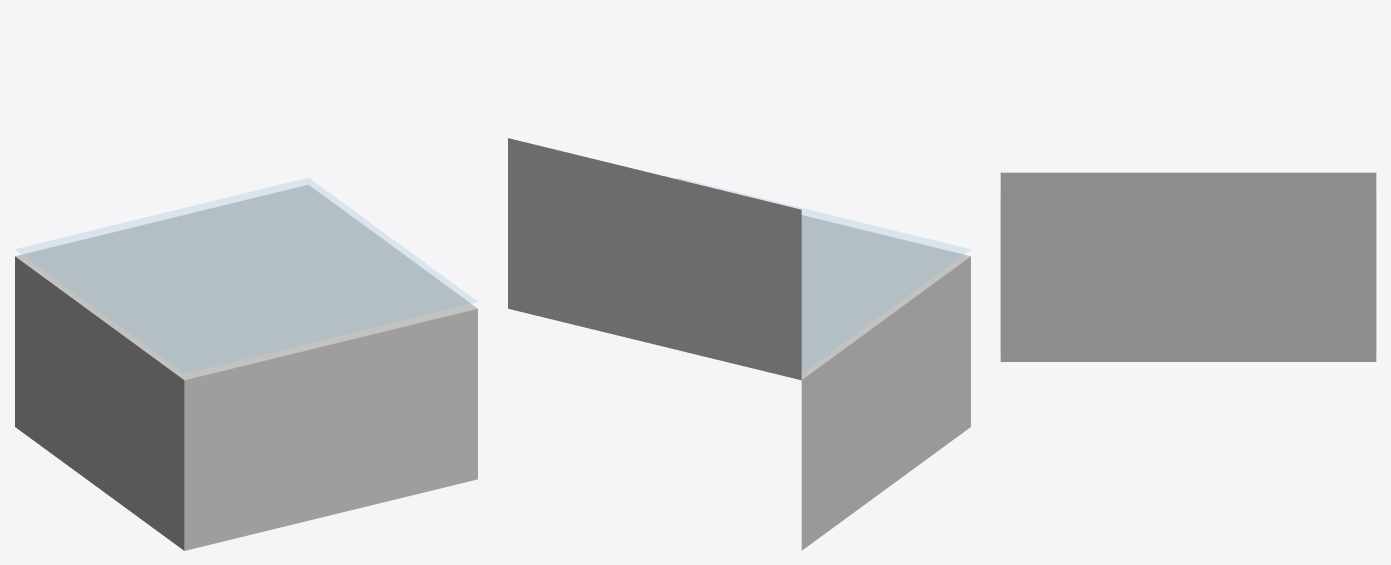
The model's file is hakoniwa_template.glb.
3 views of the same model, side by side, from view 1: azimuth 30°, elevation 25°; view 2: azimuth 150°, elevation 25°; view 3: azimuth 270°, elevation 25° (orthographic). The views are drawn at different scales.
Parts seen in each view (by area): view 1: 立方体, 平面; view 2: 立方体, 平面; view 3: 立方体.
Part boxes in pixels (x1,y1,x2,y2): 立方体: (15, 184, 477, 550); 平面: (15, 178, 477, 373); 立方体: (508, 138, 970, 550); 平面: (676, 178, 970, 372); 立方体: (1000, 172, 1376, 361).
Size of the model in its own units: 3.61 by 4 by 3.61.
